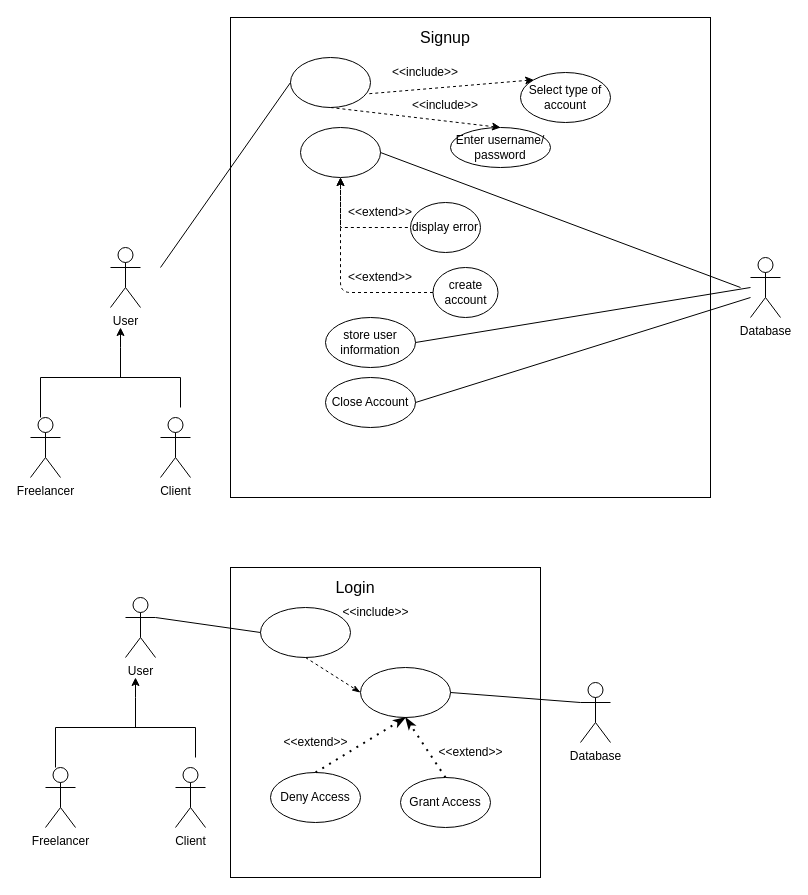
Image size: 808x895. Some labels were removed from this diagram. The shapes that lost their labels are listed below. From the top down, each one's box as (x1, y1, x2, y2) in pixels, then its label:
(290, 56, 370, 108): input information
(300, 126, 380, 178): verify password
(260, 606, 350, 658): Input Credentials
(360, 666, 450, 718): Verify credentials
